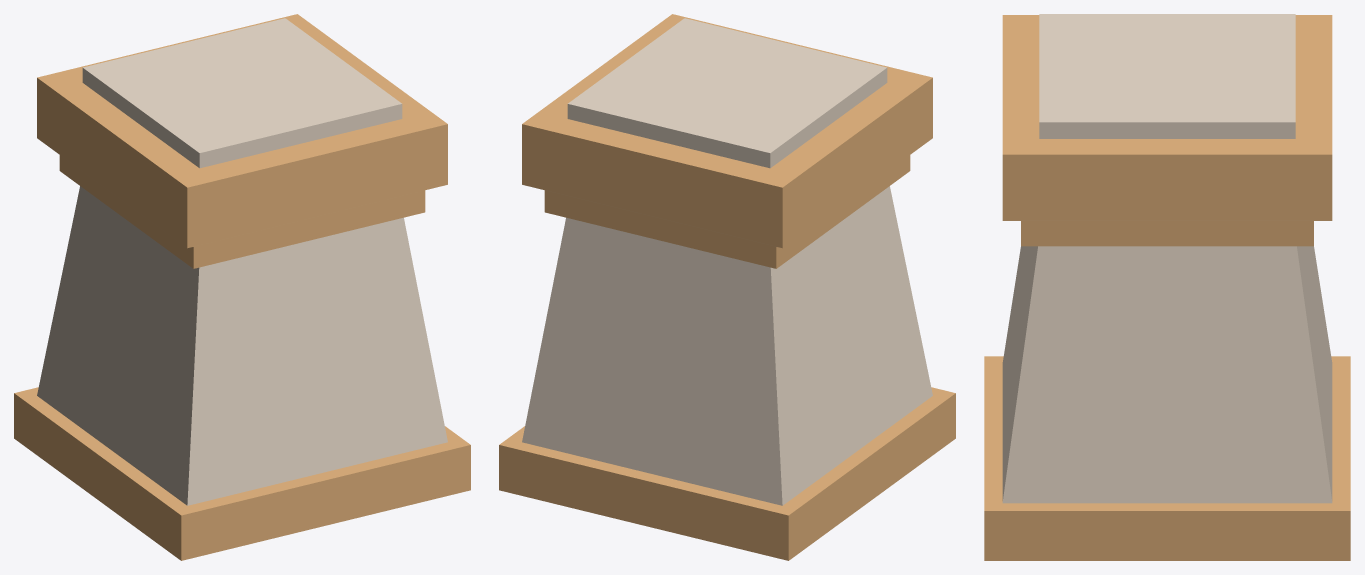
Rendered from PedestalTwo.fbx.
3 renders of one model, left to right at view 1: azimuth 30°, elevation 25°; view 2: azimuth 150°, elevation 25°; view 3: azimuth 270°, elevation 25°, orthographic. The views are drawn at different scales.
Visible parts, largest first — view 1: Cube; view 2: Cube; view 3: Cube.
Boxes of the visible parts, box(x1,y1,x2,y2) form: Cube: box(14, 14, 470, 560); Cube: box(499, 14, 955, 560); Cube: box(984, 14, 1350, 560).
Size of the model in its own units: 2 by 2.5 by 2.
